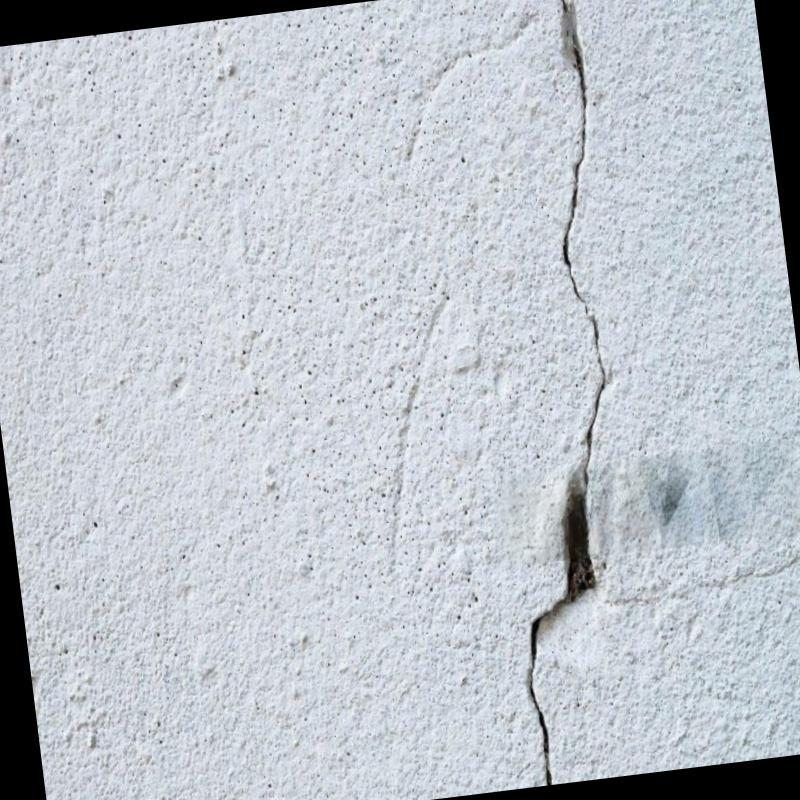pothole: (519, 0, 614, 786)
